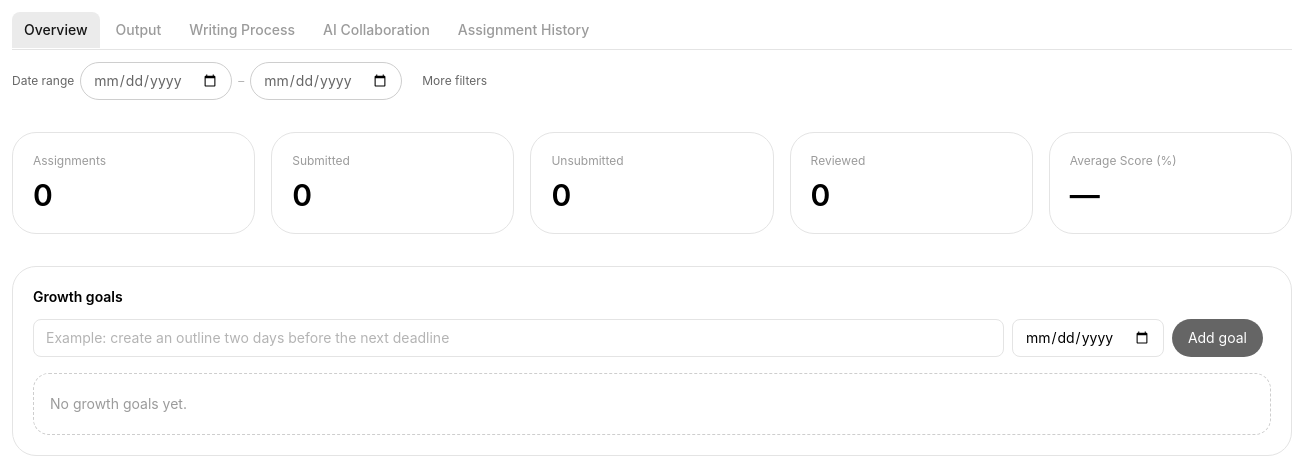
Test: StudentGrowthProfile browser interactions › adds a student growth goal through the rendered form
The width and height of the screenshot is (1292, 473).
Step 1. Type "Create the outline two days early" into the field with placeholder "Example: create an outline two days before the next deadline" → (518, 338), box [33,319,1004,357]
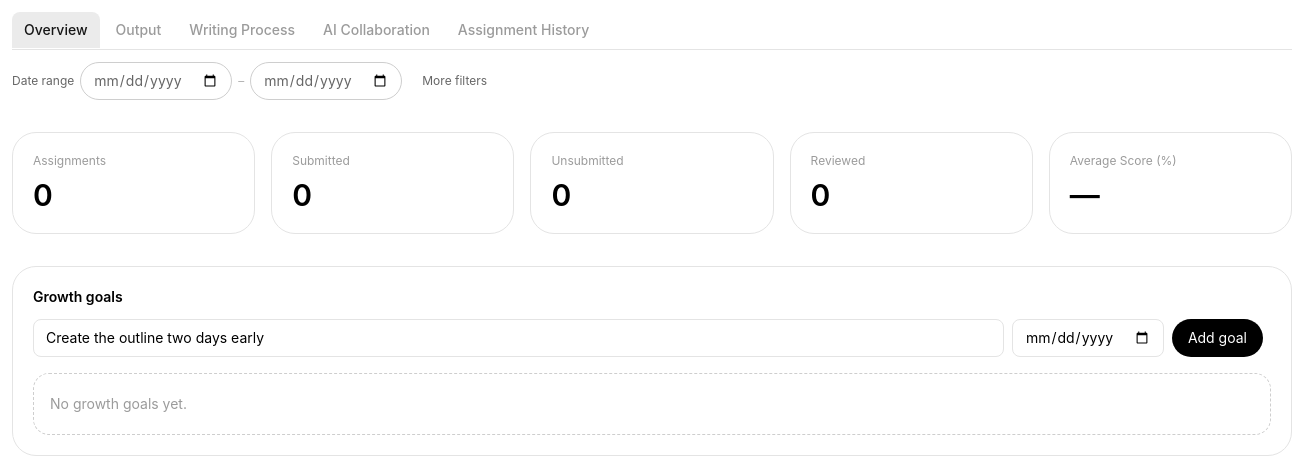
Step 2. Click the button "Add goal" → click(1217, 338), box [1172,319,1263,357]
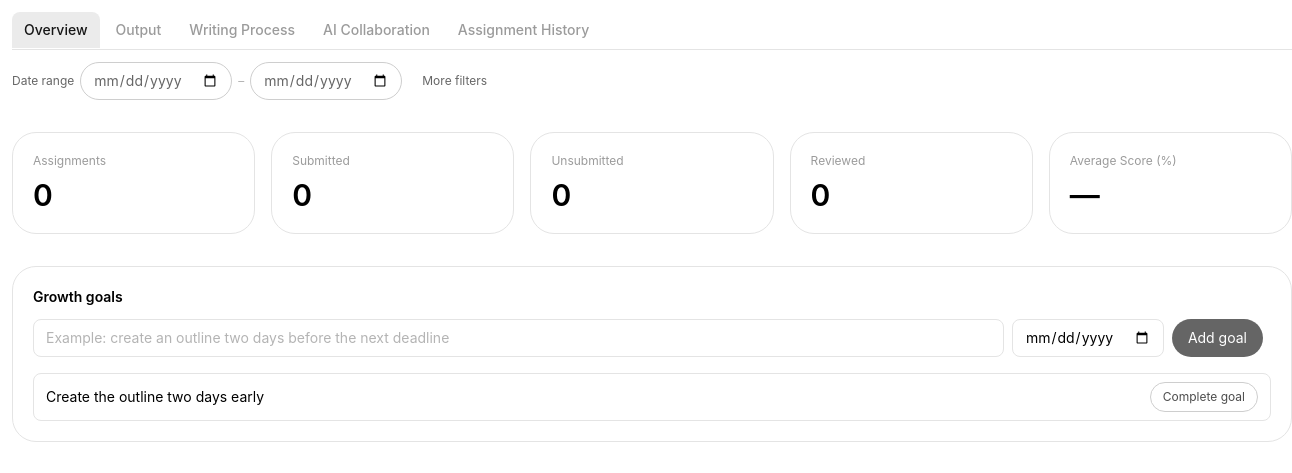
Now the text "Create the outline two days early" is shown, box [46,387,264,407]
